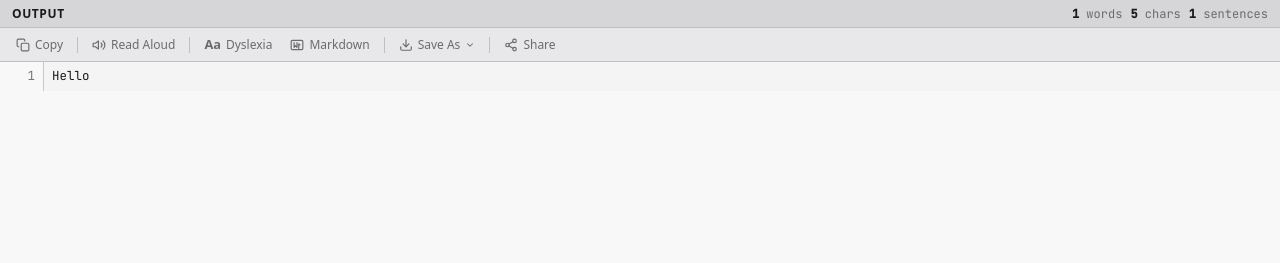
OutputPanel › opens save menu on Save As button click
Step 1. Click the button titled "Save output as file" → [437, 44], box [391,32,483,57]
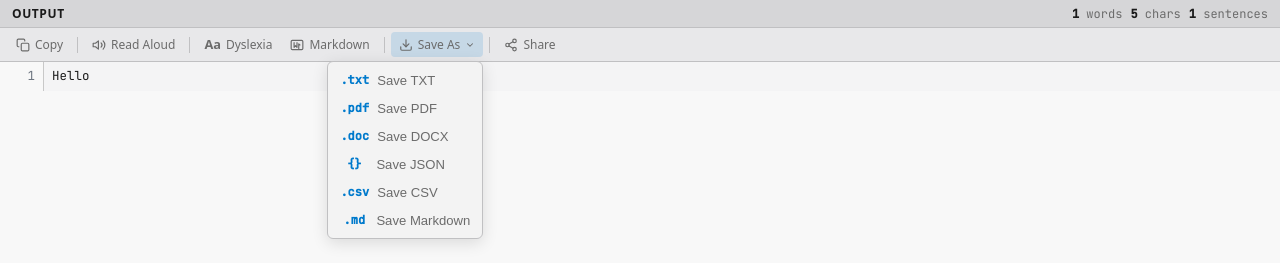
expect the text "Save TXT" is shown: met, box [377,72,435,88]
